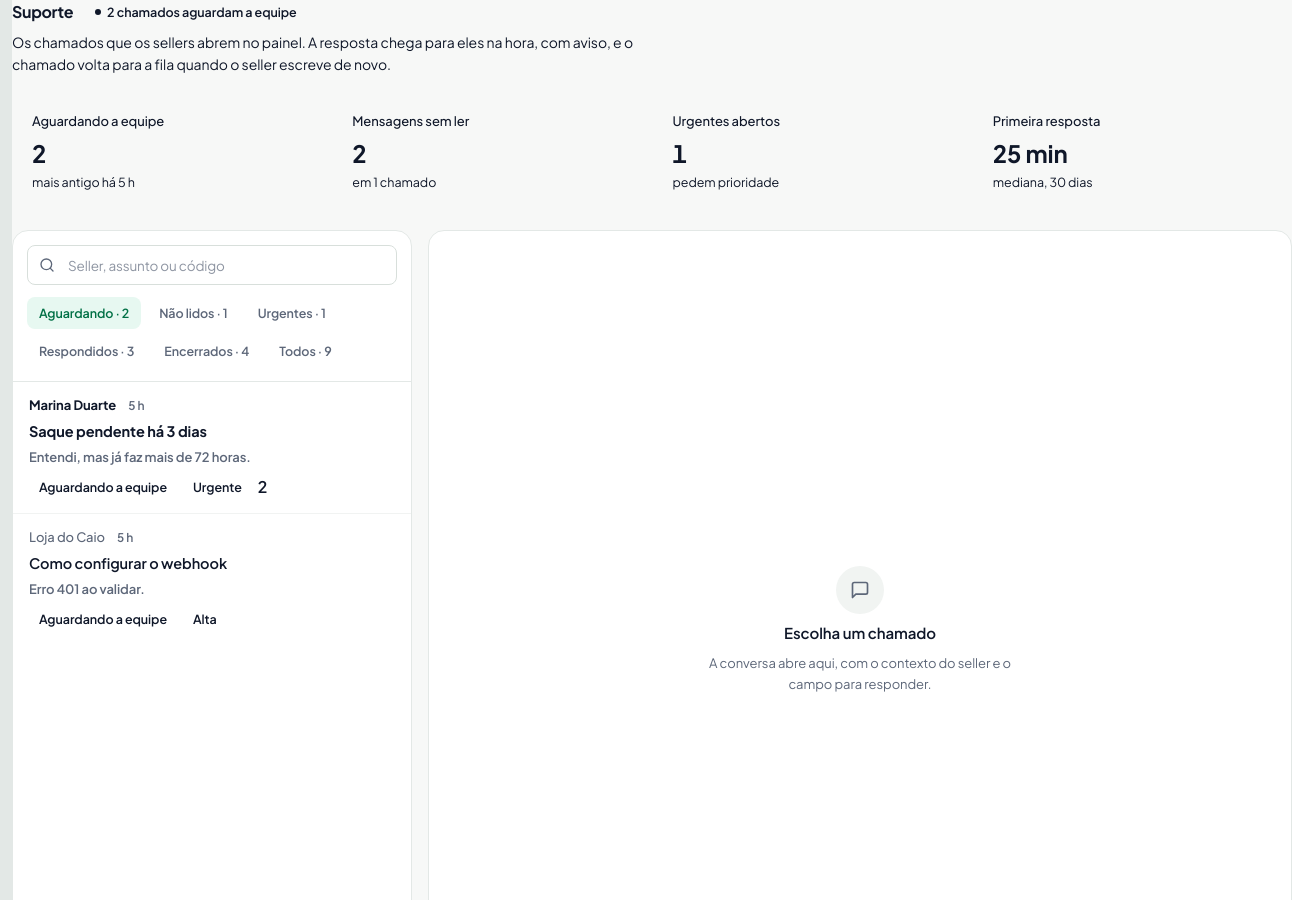
Test: Suporte do admin › 'Sobre o seller' mostra o histórico e abre um chamado anterior
Click the button "Saque pendente há 3 dias".
click(212, 448)  # box x1=13 y1=382 x2=411 y2=513
(page scrolled)
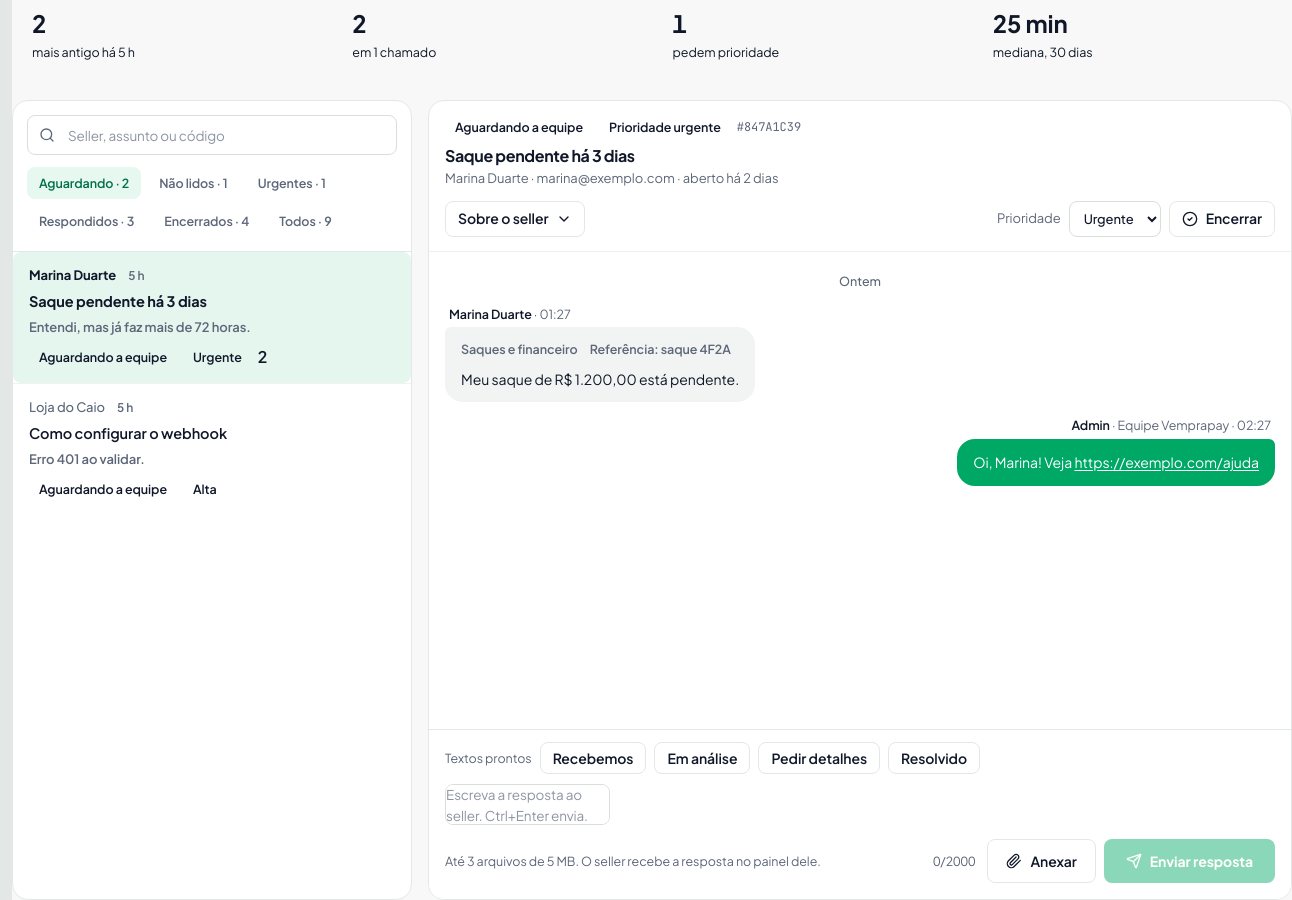
Expected: the element named "Mensagens do chamado" is shown, x1=445 y1=273 x2=1275 y2=486
Click the button "Sobre o seller".
click(515, 219)  # box x1=445 y1=201 x2=585 y2=237
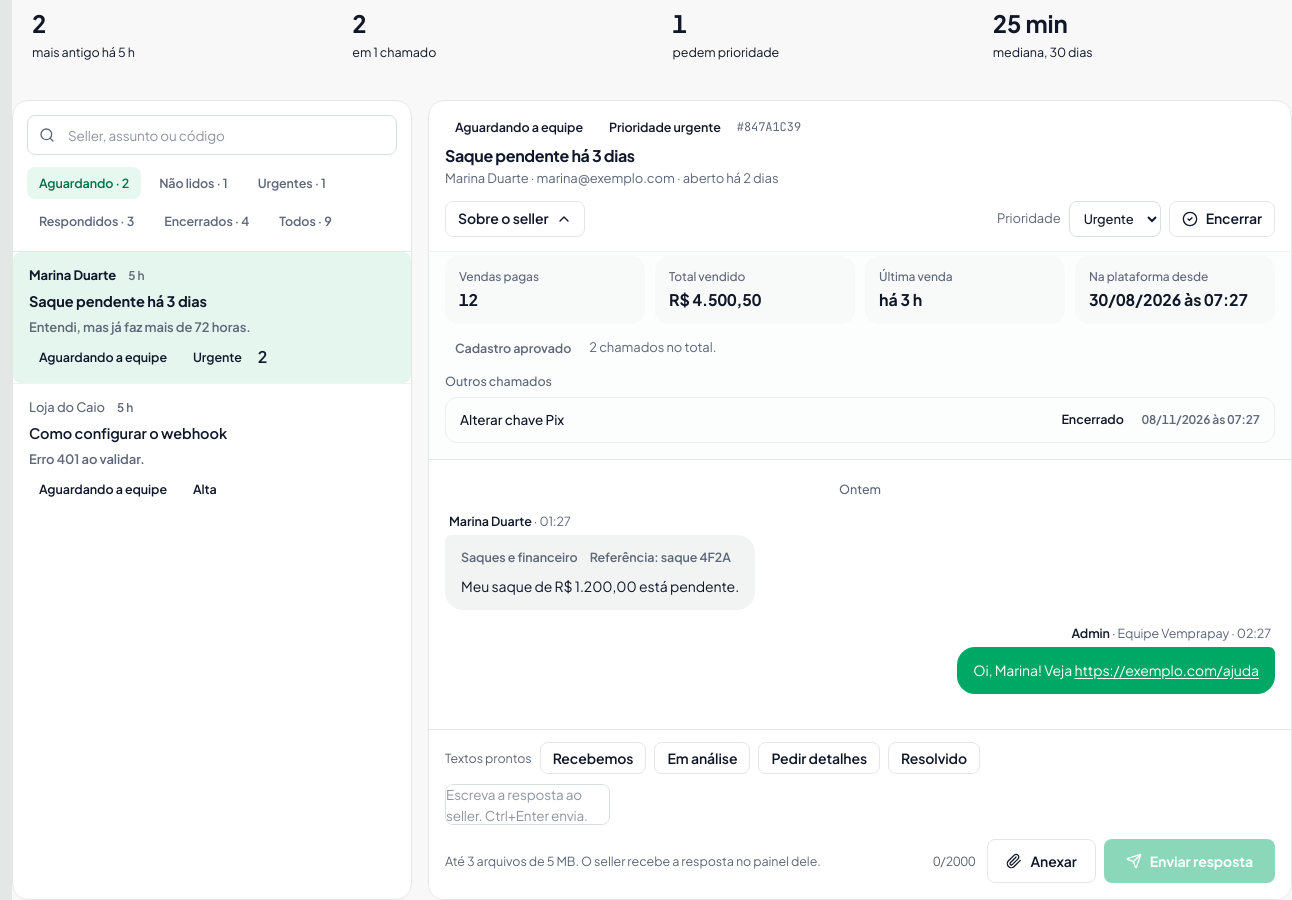
Expected: the text "Cadastro aprovado" is shown, x1=445 y1=336 x2=581 y2=360
Expected: the text "R$ 4.500,50" is shown, x1=669 y1=289 x2=761 y2=310
Click the button "Alterar chave Pix Encerrado 08/11/2026 às 07:27".
click(512, 419)  # box x1=446 y1=398 x2=1274 y2=442
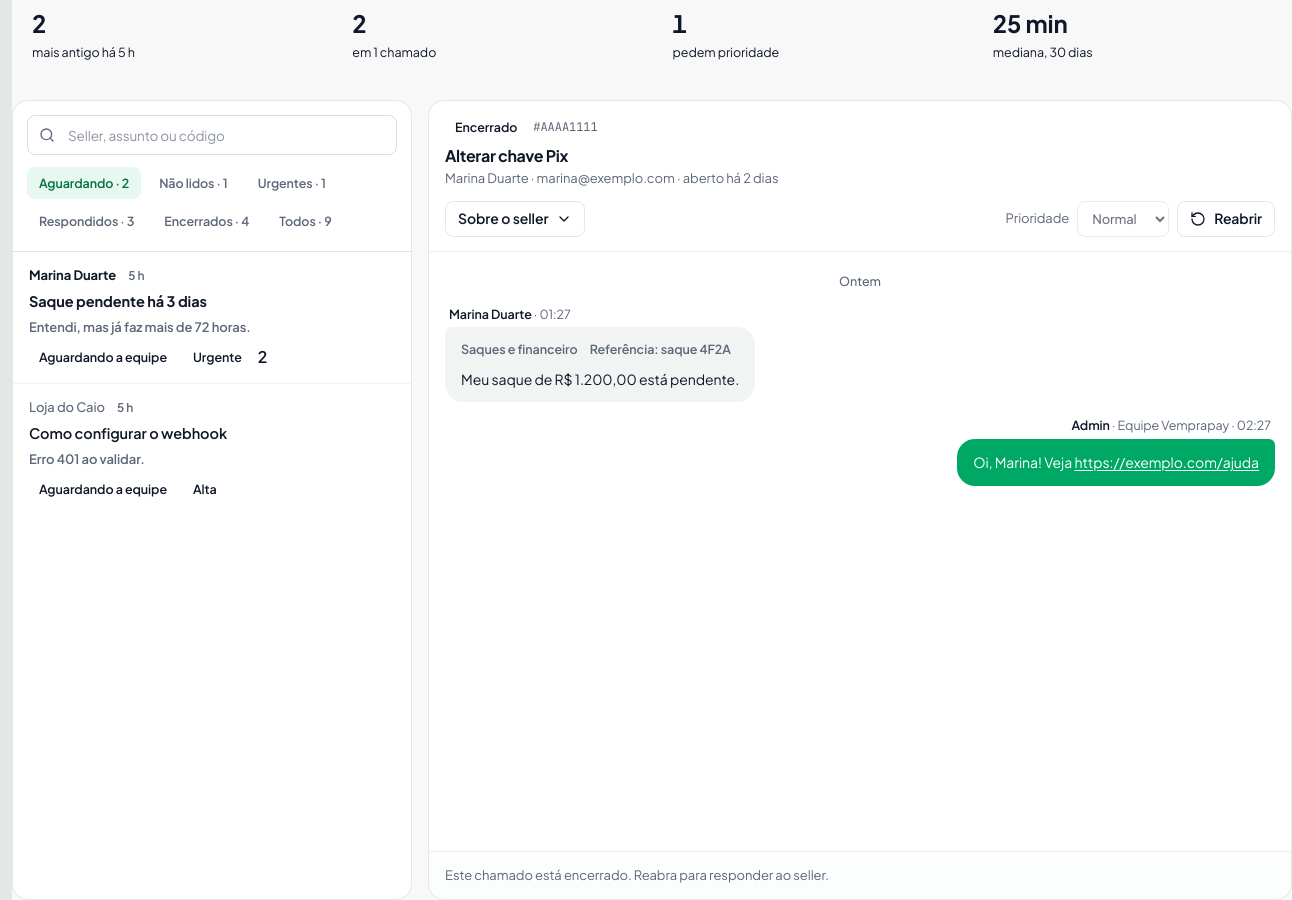
Expected: the field labelled "Resposta ao seller" is not shown
Expected: the text "Este chamado está encerrado. Reabra para responder ao seller." is shown, x1=429 y1=851 x2=1291 y2=899
